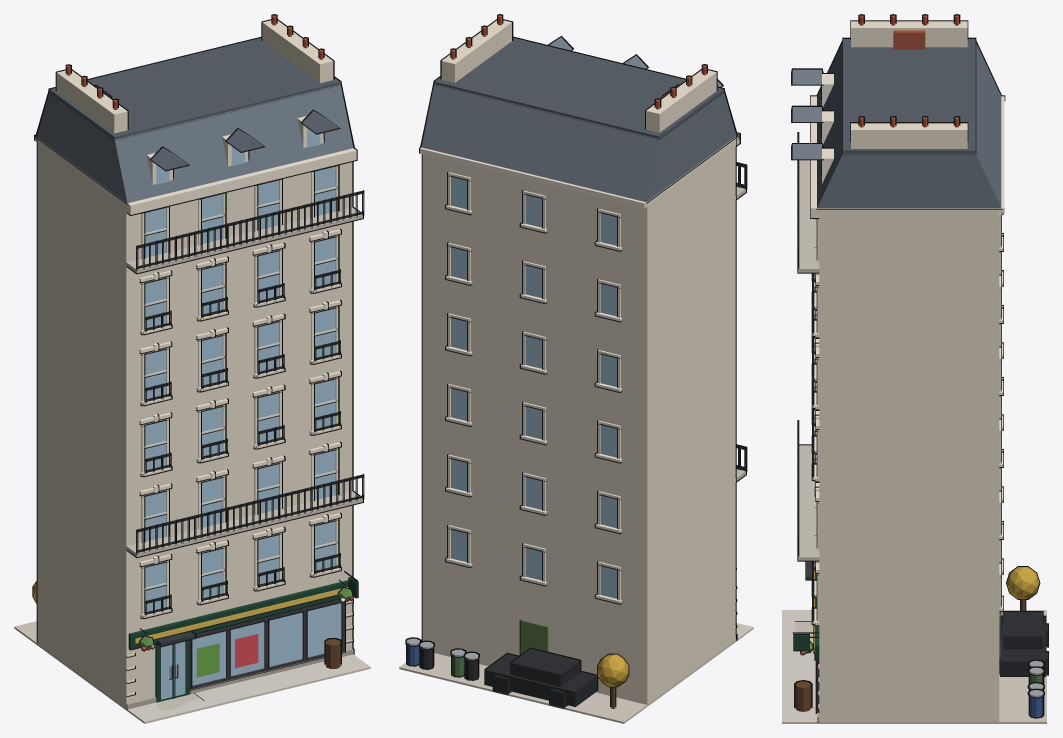
File: Blok_duz_7k_1.fbx
The picture shows the model from 3 angles, left to right: view 1: azimuth 30°, elevation 25°; view 2: azimuth 150°, elevation 25°; view 3: azimuth 270°, elevation 25°; orthographic projection. The views are drawn at different scales.
Visible parts, largest first — view 1: Blok_duz_7k_1; view 2: Blok_duz_7k_1; view 3: Blok_duz_7k_1.
Part boxes in pixels (<box>): Blok_duz_7k_1: <box>14,14,370,723</box>; Blok_duz_7k_1: <box>399,14,753,723</box>; Blok_duz_7k_1: <box>782,14,1048,723</box>.
Size of the model in its own units: 10.1 by 25.13 by 10.07.
